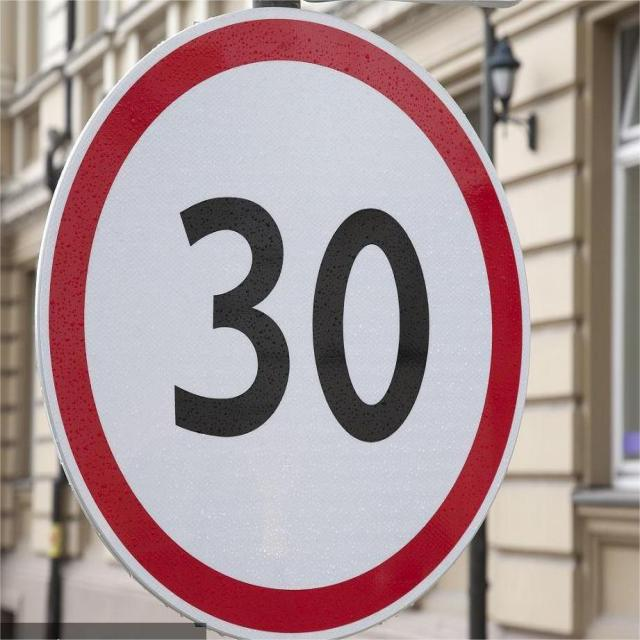speed limit 30: (34, 3, 532, 639)
